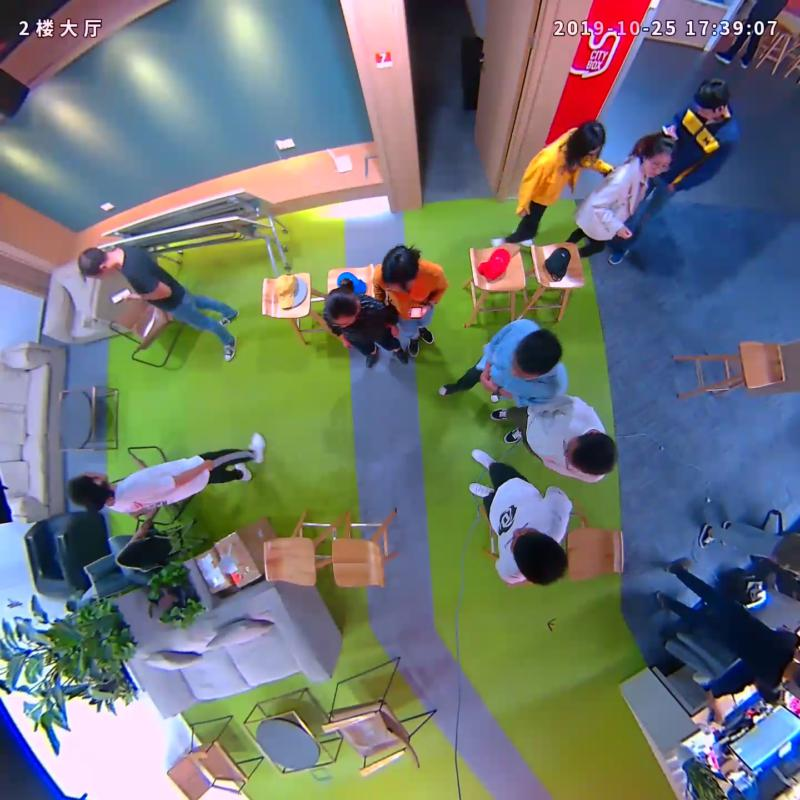head: (510, 527, 567, 587), (511, 329, 563, 380), (565, 433, 617, 477), (381, 245, 419, 296), (694, 77, 730, 119), (325, 288, 361, 328), (68, 473, 108, 507), (642, 137, 674, 179), (573, 121, 605, 162), (77, 247, 113, 280)
